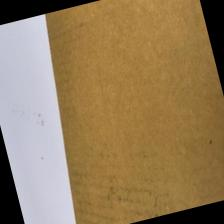Kertas: (46, 0, 223, 223)
